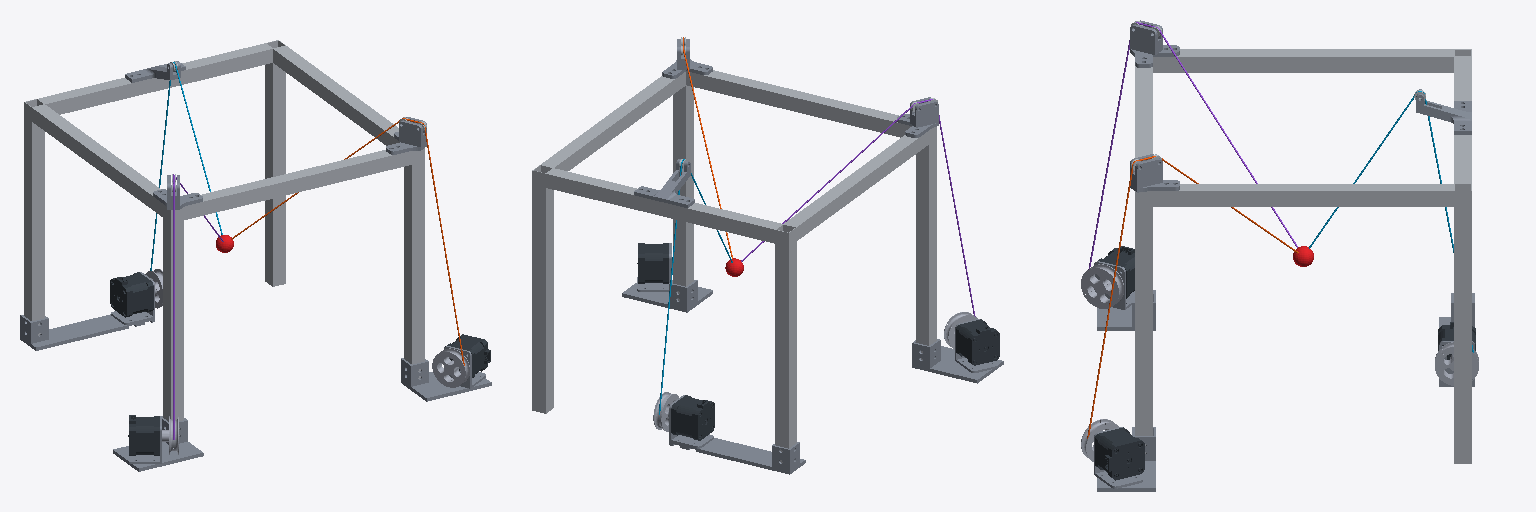
URDF robot description (cable_robot):
<?xml version="1.0" encoding="utf-8"?>
<robot name="cable_robot">
  <material name="aluminum_frame">
    <color rgba="0.72 0.74 0.77 1" />
  </material>
  <material name="mounts">
    <color rgba="0.56 0.59 0.64 1" />
  </material>
  <material name="pulleys">
    <color rgba="0.72 0.75 0.78 1" />
  </material>
  <material name="motors">
    <color rgba="0.25 0.28 0.31 1" />
  </material>
  <material name="spool">
    <color rgba="0.68 0.7 0.75 1" />
  </material>
  <link name="base_link">
    <visual>
      <geometry>
        <mesh filename="package://ropes_description/meshes/aluminum_frame.stl" />
      </geometry>
      <material name="aluminum_frame" />
    </visual>
    <collision>
      <geometry>
        <mesh filename="package://ropes_description/meshes/aluminum_frame.stl" />
      </geometry>
    </collision>
    <visual>
      <geometry>
        <mesh filename="package://ropes_description/meshes/mounts.stl" />
      </geometry>
      <material name="mounts" />
    </visual>
    <collision>
      <geometry>
        <mesh filename="package://ropes_description/meshes/mounts.stl" />
      </geometry>
    </collision>
    <visual>
      <geometry>
        <mesh filename="package://ropes_description/meshes/pulleys.stl" />
      </geometry>
      <material name="pulleys" />
    </visual>
    <collision>
      <geometry>
        <mesh filename="package://ropes_description/meshes/pulleys.stl" />
      </geometry>
    </collision>
    <visual>
      <geometry>
        <mesh filename="package://ropes_description/meshes/motors.stl" />
      </geometry>
      <material name="motors" />
    </visual>
    <collision>
      <geometry>
        <mesh filename="package://ropes_description/meshes/motors.stl" />
      </geometry>
    </collision>
  </link>
  <link name="drum_1">
    <visual>
      <geometry>
        <mesh filename="package://ropes_description/meshes/drum_1.stl" />
      </geometry>
      <material name="spool" />
    </visual>
    <collision>
      <geometry>
        <mesh filename="package://ropes_description/meshes/drum_1.stl" />
      </geometry>
    </collision>
  </link>
  <joint name="drum_1_joint" type="continuous">
    <parent link="base_link" />
    <child link="drum_1" />
    <origin xyz="0.2123278949 -0.2239935565 0.03600000358" rpy="0 0 0" />
    <axis xyz="-0.8660254038 -0.5 0" />
  </joint>
  <link name="drum_2">
    <visual>
      <geometry>
        <mesh filename="package://ropes_description/meshes/drum_2.stl" />
      </geometry>
      <material name="spool" />
    </visual>
    <collision>
      <geometry>
        <mesh filename="package://ropes_description/meshes/drum_2.stl" />
      </geometry>
    </collision>
  </link>
  <joint name="drum_2_joint" type="continuous">
    <parent link="base_link" />
    <child link="drum_2" />
    <origin xyz="-0.006 0.1735 0.03600000358" rpy="0 0 0" />
    <axis xyz="1 0 0" />
  </joint>
  <link name="drum_3">
    <visual>
      <geometry>
        <mesh filename="package://ropes_description/meshes/drum_3.stl" />
      </geometry>
      <material name="spool" />
    </visual>
    <collision>
      <geometry>
        <mesh filename="package://ropes_description/meshes/drum_3.stl" />
      </geometry>
    </collision>
  </link>
  <joint name="drum_3_joint" type="continuous">
    <parent link="base_link" />
    <child link="drum_3" />
    <origin xyz="-0.2123278949 -0.2239935565 0.03600000358" rpy="0 0 0" />
    <axis xyz="0.8660254038 -0.5 0" />
  </joint>
  <material name="end_effector_color">
    <color rgba="0.9 0.16 0.18 1" />
  </material>
  <link name="end_effector">
    <visual>
      <geometry>
        <sphere radius=".012" />
      </geometry>
      <material name="end_effector_color" />
    </visual>
    <collision>
      <geometry>
        <sphere radius=".012" />
      </geometry>
    </collision>
  </link>
  <link name="cable_exit_1" />
  <joint name="cable_exit_1_joint" type="fixed">
    <parent link="base_link" />
    <child link="cable_exit_1" />
    <origin xyz="0.170543694 -0.163621197 0.373868574" rpy="0 0 0" />
  </joint>
  <link name="cable_exit_2" />
  <joint name="cable_exit_2_joint" type="fixed">
    <parent link="base_link" />
    <child link="cable_exit_2" />
    <origin xyz="0 0.127366646 0.372765953" rpy="0 0 0" />
  </joint>
  <link name="cable_exit_3" />
  <joint name="cable_exit_3_joint" type="fixed">
    <parent link="base_link" />
    <child link="cable_exit_3" />
    <origin xyz="-0.170543694 -0.163621197 0.373868574" rpy="0 0 0" />
  </joint>
  <!--Virtual Cartesian joints are solved together from the drum angles.-->
  <link name="end_effector_x" />
  <link name="end_effector_y" />
  <joint name="end_effector_x_joint" type="prismatic">
    <parent link="base_link" />
    <child link="end_effector_x" />
    <origin xyz="0 0 0.17" rpy="0 0 0" />
    <axis xyz="1 0 0" />
    <limit lower="-0.170544" upper="0.170544" effort="0" velocity="0" />
  </joint>
  <joint name="end_effector_y_joint" type="prismatic">
    <parent link="end_effector_x" />
    <child link="end_effector_y" />
    <origin xyz="0 0 0" rpy="0 0 0" />
    <axis xyz="0 1 0" />
    <limit lower="-0.163621" upper="0.127367" effort="0" velocity="0" />
  </joint>
  <joint name="end_effector_z_joint" type="prismatic">
    <parent link="end_effector_y" />
    <child link="end_effector" />
    <origin xyz="0 0 0" rpy="0 0 0" />
    <axis xyz="0 0 1" />
    <limit lower="-0.08" upper="0.07" effort="0" velocity="0" />
  </joint>
  <!--Neutral cable geometry for direct URDF viewing. ROS 2 launch uses live cable markers.-->
  <material name="cable_1_color">
    <color rgba="0.96 0.4 0.1 1" />
  </material>
  <link name="cable_preview_1">
    <visual>
      <origin xyz="0.2022308355 -0.218504936 0.2052559155" rpy="0 0.1778706824 2.0943951" />
      <geometry>
        <cylinder radius="0.001" length="0.3366395655" />
      </geometry>
      <material name="cable_1_color" />
    </visual>
    <visual>
      <origin xyz="0.1872528225 -0.192562257 0.3714964765" rpy="0 0.2939475533 2.094396933" />
      <geometry>
        <cylinder radius="0.001" length="0.001204492577" />
      </geometry>
      <material name="cable_1_color" />
    </visual>
    <visual>
      <origin xyz="0.187014363 -0.1921492335 0.3725936965" rpy="0 0.5261022499 2.094394823" />
      <geometry>
        <cylinder radius="0.001" length="0.001204493508" />
      </geometry>
      <material name="cable_1_color" />
    </visual>
    <visual>
      <origin xyz="0.1866560795 -0.1915286685 0.3735517545" rpy="0 0.7582565076 2.094395579" />
      <geometry>
        <cylinder radius="0.001" length="0.001204492552" />
      </geometry>
      <material name="cable_1_color" />
    </visual>
    <visual>
      <origin xyz="0.1861971955 -0.190733858 0.374319247" rpy="0 0.990410364 2.094394614" />
      <geometry>
        <cylinder radius="0.001" length="0.001204493348" />
      </geometry>
      <material name="cable_1_color" />
    </visual>
    <visual>
      <origin xyz="0.185662332 -0.1898074465 0.374854995" rpy="0 1.222565089 2.094394881" />
      <geometry>
        <cylinder radius="0.001" length="0.001204492806" />
      </geometry>
      <material name="cable_1_color" />
    </visual>
    <visual>
      <origin xyz="0.185080186 -0.18879914 0.3751302535" rpy="0 1.454718658 2.09439527" />
      <geometry>
        <cylinder radius="0.001" length="0.001204493232" />
      </geometry>
      <material name="cable_1_color" />
    </visual>
    <visual>
      <origin xyz="0.178531089 -0.1774557715 0.375200004" rpy="0 1.570796327 2.094395104" />
      <geometry>
        <cylinder radius="0.001" length="0.02499999992" />
      </geometry>
      <material name="cable_1_color" />
    </visual>
    <visual>
      <origin xyz="0.1719671005 -0.16608661 0.375123027" rpy="0 1.692767193 2.09439513" />
      <geometry>
        <cylinder radius="0.001" length="0.001265354548" />
      </geometry>
      <material name="cable_1_color" />
    </visual>
    <visual>
      <origin xyz="0.1713577155 -0.1650311245 0.3748196765" rpy="0 1.936709583 2.094395311" />
      <geometry>
        <cylinder radius="0.001" length="0.00126535541" />
      </geometry>
      <material name="cable_1_color" />
    </visual>
    <visual>
      <origin xyz="0.1708030065 -0.16407034 0.3742309385" rpy="0 2.180650395 2.094394548" />
      <geometry>
        <cylinder radius="0.001" length="0.001265354398" />
      </geometry>
      <material name="cable_1_color" />
    </visual>
    <visual>
      <origin xyz="0.085271847 -0.0818105985 0.271934287" rpy="0 2.28256211 2.376907339" />
      <geometry>
        <cylinder radius="0.001" length="0.312120879" />
      </geometry>
      <material name="cable_1_color" />
    </visual>
  </link>
  <joint name="cable_preview_1_joint" type="fixed">
    <parent link="base_link" />
    <child link="cable_preview_1" />
    <origin xyz="0 0 0" rpy="0 0 0" />
  </joint>
  <material name="cable_2_color">
    <color rgba="0.06 0.65 0.85 1" />
  </material>
  <link name="cable_preview_2">
    <visual>
      <origin xyz="0 0.165202988 0.2051466715" rpy="0 0.1691718923 -1.570796327" />
      <geometry>
        <cylinder radius="0.001" length="0.3362579107" />
      </geometry>
      <material name="cable_2_color" />
    </visual>
    <visual>
      <origin xyz="0 0.136717058 0.371474922" rpy="0 0.2897501312 -1.570796327" />
      <geometry>
        <cylinder radius="0.001" length="0.001250976589" />
      </geometry>
      <material name="cable_2_color" />
    </visual>
    <visual>
      <origin xyz="0 0.136221654 0.3726137255" rpy="0 0.5309064155 -1.570796327" />
      <geometry>
        <cylinder radius="0.001" length="0.001250975689" />
      </geometry>
      <material name="cable_2_color" />
    </visual>
    <visual>
      <origin xyz="0 0.1354686105 0.3736012595" rpy="0 0.7720625304 -1.570796327" />
      <geometry>
        <cylinder radius="0.001" length="0.001250976059" />
      </geometry>
      <material name="cable_2_color" />
    </visual>
    <visual>
      <origin xyz="0 0.13450151 0.374380371" rpy="0 1.013218391 -1.570796327" />
      <geometry>
        <cylinder radius="0.001" length="0.001250975807" />
      </geometry>
      <material name="cable_2_color" />
    </visual>
    <visual>
      <origin xyz="0 0.1333763235 0.3749059685" rpy="0 1.254375009 -1.570796327" />
      <geometry>
        <cylinder radius="0.001" length="0.001250975594" />
      </geometry>
      <material name="cable_2_color" />
    </visual>
    <visual>
      <origin xyz="0 0.1321581705 0.375147633" rpy="0 1.495531235 -1.570796327" />
      <geometry>
        <cylinder radius="0.001" length="0.001250976615" />
      </geometry>
      <material name="cable_2_color" />
    </visual>
    <visual>
      <origin xyz="0 0.130917552 0.3750913785" rpy="0 1.736687245 -1.570796327" />
      <geometry>
        <cylinder radius="0.001" length="0.001250975861" />
      </geometry>
      <material name="cable_2_color" />
    </visual>
    <visual>
      <origin xyz="0 0.1297262695 0.3747404605" rpy="0 1.97784385 -1.570796327" />
      <geometry>
        <cylinder radius="0.001" length="0.001250975575" />
      </geometry>
      <material name="cable_2_color" />
    </visual>
    <visual>
      <origin xyz="0 0.128653268 0.3741151885" rpy="0 2.218999703 -1.570796327" />
      <geometry>
        <cylinder radius="0.001" length="0.00125097563" />
      </geometry>
      <material name="cable_2_color" />
    </visual>
    <visual>
      <origin xyz="0 0.127760647 0.37325175" rpy="0 2.460155913 -1.570796327" />
      <geometry>
        <cylinder radius="0.001" length="0.00125097644" />
      </geometry>
      <material name="cable_2_color" />
    </visual>
    <visual>
      <origin xyz="0 0.063683323 0.2713829765" rpy="0 2.58073416 -1.570796327" />
      <geometry>
        <cylinder radius="0.001" length="0.2394499827" />
      </geometry>
      <material name="cable_2_color" />
    </visual>
  </link>
  <joint name="cable_preview_2_joint" type="fixed">
    <parent link="base_link" />
    <child link="cable_preview_2" />
    <origin xyz="0 0 0" rpy="0 0 0" />
  </joint>
  <material name="cable_3_color">
    <color rgba="0.62 0.35 0.87 1" />
  </material>
  <link name="cable_preview_3">
    <visual>
      <origin xyz="-0.2022308355 -0.218504936 0.2052559155" rpy="0 0.1778706824 1.047197553" />
      <geometry>
        <cylinder radius="0.001" length="0.3366395655" />
      </geometry>
      <material name="cable_3_color" />
    </visual>
    <visual>
      <origin xyz="-0.1872528225 -0.192562257 0.3714964765" rpy="0 0.2939475533 1.047195721" />
      <geometry>
        <cylinder radius="0.001" length="0.001204492577" />
      </geometry>
      <material name="cable_3_color" />
    </visual>
    <visual>
      <origin xyz="-0.187014363 -0.1921492335 0.3725936965" rpy="0 0.5261022499 1.047197831" />
      <geometry>
        <cylinder radius="0.001" length="0.001204493508" />
      </geometry>
      <material name="cable_3_color" />
    </visual>
    <visual>
      <origin xyz="-0.1866560795 -0.1915286685 0.3735517545" rpy="0 0.7582565076 1.047197075" />
      <geometry>
        <cylinder radius="0.001" length="0.001204492552" />
      </geometry>
      <material name="cable_3_color" />
    </visual>
    <visual>
      <origin xyz="-0.1861971955 -0.190733858 0.374319247" rpy="0 0.990410364 1.04719804" />
      <geometry>
        <cylinder radius="0.001" length="0.001204493348" />
      </geometry>
      <material name="cable_3_color" />
    </visual>
    <visual>
      <origin xyz="-0.185662332 -0.1898074465 0.374854995" rpy="0 1.222565089 1.047197773" />
      <geometry>
        <cylinder radius="0.001" length="0.001204492806" />
      </geometry>
      <material name="cable_3_color" />
    </visual>
    <visual>
      <origin xyz="-0.185080186 -0.18879914 0.3751302535" rpy="0 1.454718658 1.047197384" />
      <geometry>
        <cylinder radius="0.001" length="0.001204493232" />
      </geometry>
      <material name="cable_3_color" />
    </visual>
    <visual>
      <origin xyz="-0.178531089 -0.1774557715 0.375200004" rpy="0 1.570796327 1.047197549" />
      <geometry>
        <cylinder radius="0.001" length="0.02499999992" />
      </geometry>
      <material name="cable_3_color" />
    </visual>
    <visual>
      <origin xyz="-0.1719671005 -0.16608661 0.375123027" rpy="0 1.692767193 1.047197523" />
      <geometry>
        <cylinder radius="0.001" length="0.001265354548" />
      </geometry>
      <material name="cable_3_color" />
    </visual>
    <visual>
      <origin xyz="-0.1713577155 -0.1650311245 0.3748196765" rpy="0 1.936709583 1.047197343" />
      <geometry>
        <cylinder radius="0.001" length="0.00126535541" />
      </geometry>
      <material name="cable_3_color" />
    </visual>
    <visual>
      <origin xyz="-0.1708030065 -0.16407034 0.3742309385" rpy="0 2.180650395 1.047198106" />
      <geometry>
        <cylinder radius="0.001" length="0.001265354398" />
      </geometry>
      <material name="cable_3_color" />
    </visual>
    <visual>
      <origin xyz="-0.085271847 -0.0818105985 0.271934287" rpy="0 2.28256211 0.7646853142" />
      <geometry>
        <cylinder radius="0.001" length="0.312120879" />
      </geometry>
      <material name="cable_3_color" />
    </visual>
  </link>
  <joint name="cable_preview_3_joint" type="fixed">
    <parent link="base_link" />
    <child link="cable_preview_3" />
    <origin xyz="0 0 0" rpy="0 0 0" />
  </joint>
</robot>

--- What the picture shows (computed from the rendered views, not written in the file) ---
The picture shows the robot from 3 angles, left to right: view 1: azimuth 30°, elevation 25°; view 2: azimuth 150°, elevation 25°; view 3: azimuth 270°, elevation 25°; orthographic projection.
Robot: cable_robot — 13 links, 12 joints (3 continuous, 3 prismatic, 6 fixed); root link base_link; default pose: all joints at 0.
Links seen in each view (by area): view 1: base_link, drum_1, cable_preview_1, cable_preview_3; view 2: base_link, cable_preview_3, drum_2; view 3: base_link, drum_3, cable_preview_3, drum_2, cable_preview_1, drum_1.
Link boxes in pixels (x1,y1,x2,y2): base_link: (20, 40, 491, 471); drum_1: (432, 348, 469, 387); cable_preview_1: (231, 118, 464, 365); cable_preview_3: (173, 174, 223, 439); base_link: (532, 37, 1003, 474); cable_preview_3: (741, 99, 975, 316); drum_2: (653, 392, 678, 431); base_link: (1094, 20, 1475, 491); drum_3: (1081, 264, 1123, 308); cable_preview_3: (1088, 22, 1297, 269); drum_2: (1435, 342, 1478, 385); cable_preview_1: (1087, 156, 1298, 438); drum_1: (1081, 419, 1118, 461).
Bounding box of the posed robot: 0.5387 × 0.4501 × 0.3765 m (x, y, z).
7 mesh visuals loaded from 7 distinct referenced files (7 binary STL).
